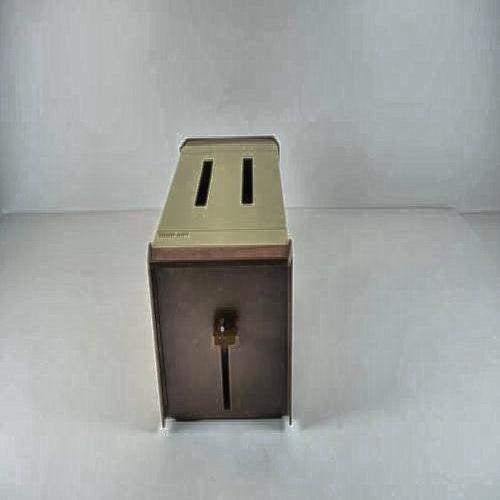toaster: (147, 124, 310, 431)
